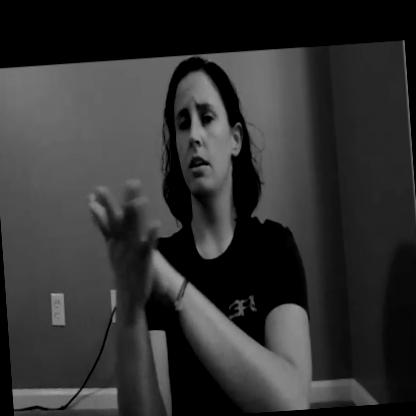NiceToMeetYou: (78, 54, 262, 370)
